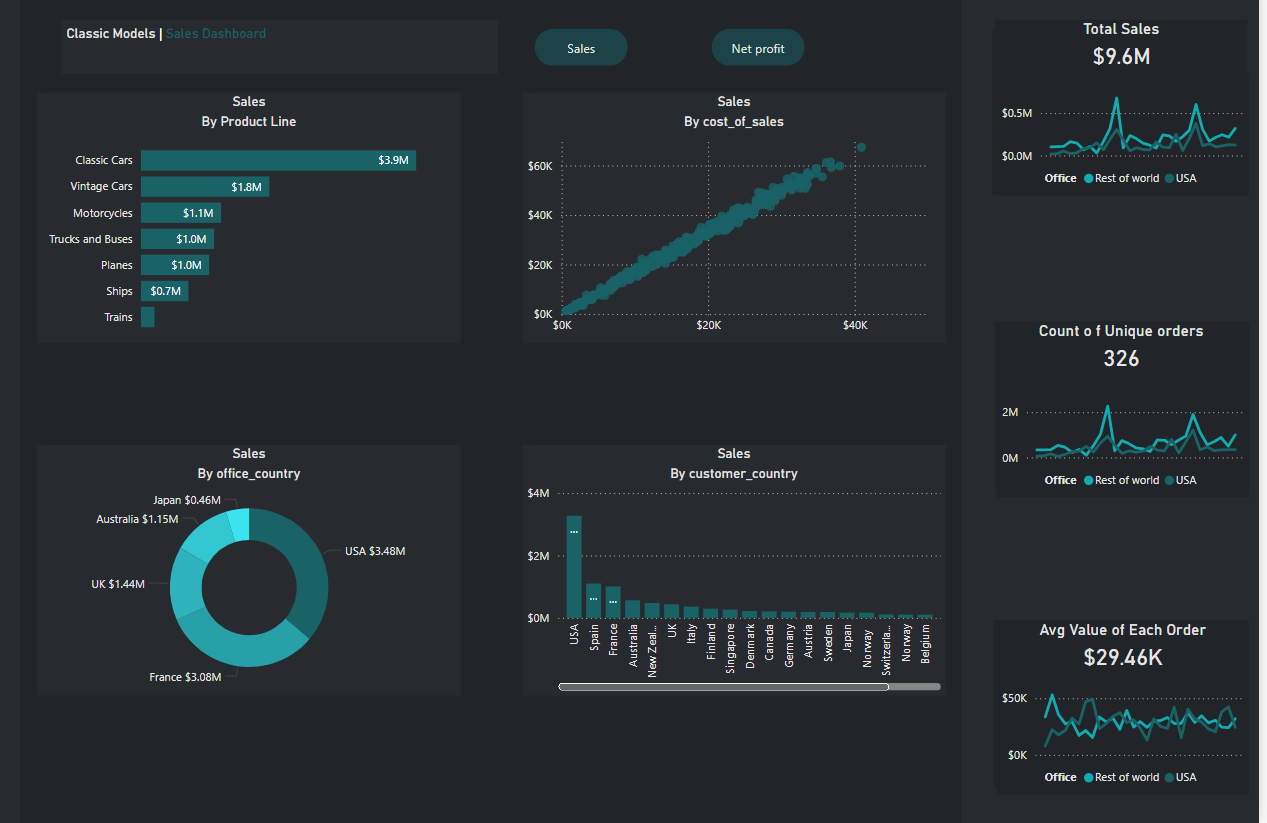

What the dashboard file says about the page in this screenshot:
{"tool":"powerbi","page":{"name":"Sales Overview","canvas":[1500,900],"ordinal":1},"visuals":[{"type":"shape","box":[0,0,170,900.1],"z":0},{"type":"shape","box":[1180.8,0,319.7,900.1],"z":1000},{"type":"shape","box":[1213.5,45.3,273.2,178.8],"z":2000},{"type":"shape","box":[1214.8,681,273.2,178.8],"z":3000},{"type":"shape","box":[1216,361.3,273.2,178.8],"z":4000},{"type":"card","title":"Total Sales","fields":{"Values":["Sum(Sales Data for Power BI.sales_value)"]},"box":[1216.1,36.4,271,58.1],"z":5000},{"type":"card","title":"Count o f Unique orders","fields":{"Values":["Count(Sales Data for Power BI.ordernumber)"]},"box":[1216.1,361,271,58.1],"z":6000},{"type":"card","title":"Avg Value of Each Order","fields":{"Values":["Sales Data for Power BI.Avg Sales value per order"]},"box":[1218.4,680.9,271,58.1],"z":7000},{"type":"lineChart","fields":{"Y":["Sum(Sales Data for Power BI.sales_value)"],"Category":["Sales Data for Power BI.orderdate.Variation.Date Hierarchy.Year","Sales Data for Power BI.orderdate.Variation.Date Hierarchy.Quarter","Sales Data for Power BI.orderdate.Variation.Date Hierarchy.Month"],"Series":["Sales Data for Power BI.Office Grouped"]},"box":[1218.4,94.5,271,129.8],"z":8000},{"type":"lineChart","fields":{"Category":["Sales Data for Power BI.orderdate.Variation.Date Hierarchy.Year","Sales Data for Power BI.orderdate.Variation.Date Hierarchy.Quarter","Sales Data for Power BI.orderdate.Variation.Date Hierarchy.Month"],"Series":["Sales Data for Power BI.Office Grouped"],"Y":["Sum(Sales Data for Power BI.ordernumber)"]},"box":[1218.4,419,271,129.8],"z":9000},{"type":"lineChart","fields":{"Category":["Sales Data for Power BI.orderdate.Variation.Date Hierarchy.Year","Sales Data for Power BI.orderdate.Variation.Date Hierarchy.Quarter","Sales Data for Power BI.orderdate.Variation.Date Hierarchy.Month"],"Series":["Sales Data for Power BI.Office Grouped"],"Y":["Sales Data for Power BI.Avg Sales value per order"]},"box":[1218.4,739,271,129.8],"z":10000},{"type":"clusteredBarChart","fields":{"Y":["Table.Selected Metric"],"Category":["Sales Data for Power BI.productLine"]},"box":[189,113.9,454.3,268.7],"z":11000},{"type":"actionButton","box":[721.9,45.5,100.2,39.9],"z":12000},{"type":"actionButton","box":[912.1,45.5,100.2,39.9],"z":13000},{"type":"scatterChart","fields":{"Y":["Table.Selected Metric"],"X":["Sum(Sales Data for Power BI.cost_of_sales)"],"Category":["Sales Data for Power BI.ordernumber"]},"box":[709.4,113.9,454.3,268.7],"z":15000},{"type":"donutChart","fields":{"Y":["Table.Selected Metric"],"Category":["Sales Data for Power BI.office_country"]},"box":[189,493,454.3,268.7],"z":16000},{"type":"columnChart","fields":{"Y":["Table.Selected Metric"],"Category":["Sales Data for Power BI.customer_country"]},"box":[709.4,493,454.3,268.7],"z":17000},{"type":"textbox","box":[214.1,36.4,468,58.1],"z":18000}]}

Visuals, with their boxes on the page's 1500x900 design canvas (x1, y1, x2, y2). These are canvas units, not pixel positions in the 1267x823 screenshot, which may show the page scaled, cropped or inside an application window:
shape: {"x1": 0, "y1": 0, "x2": 170, "y2": 900}
shape: {"x1": 1181, "y1": 0, "x2": 1500, "y2": 900}
shape: {"x1": 1214, "y1": 45, "x2": 1487, "y2": 224}
shape: {"x1": 1215, "y1": 681, "x2": 1488, "y2": 860}
shape: {"x1": 1216, "y1": 361, "x2": 1489, "y2": 540}
"Total Sales" card: {"x1": 1216, "y1": 36, "x2": 1487, "y2": 94}
"Count o f Unique orders" card: {"x1": 1216, "y1": 361, "x2": 1487, "y2": 419}
"Avg Value of Each Order" card: {"x1": 1218, "y1": 681, "x2": 1489, "y2": 739}
lineChart - Sum(Sales Data for Power BI.sales_value) x Sales Data for Power BI.orderdate.Variation.Date Hierarchy.Year: {"x1": 1218, "y1": 94, "x2": 1489, "y2": 224}
lineChart - Sales Data for Power BI.orderdate.Variation.Date Hierarchy.Year x Sales Data for Power BI.orderdate.Variation.Date Hierarchy.Quarter: {"x1": 1218, "y1": 419, "x2": 1489, "y2": 549}
lineChart - Sales Data for Power BI.orderdate.Variation.Date Hierarchy.Year x Sales Data for Power BI.orderdate.Variation.Date Hierarchy.Quarter: {"x1": 1218, "y1": 739, "x2": 1489, "y2": 869}
clusteredBarChart - Table.Selected Metric x Sales Data for Power BI.productLine: {"x1": 189, "y1": 114, "x2": 643, "y2": 383}
actionButton: {"x1": 722, "y1": 46, "x2": 822, "y2": 85}
actionButton: {"x1": 912, "y1": 46, "x2": 1012, "y2": 85}
scatterChart - Table.Selected Metric x Sum(Sales Data for Power BI.cost_of_sales): {"x1": 709, "y1": 114, "x2": 1164, "y2": 383}
donutChart - Table.Selected Metric x Sales Data for Power BI.office_country: {"x1": 189, "y1": 493, "x2": 643, "y2": 762}
columnChart - Table.Selected Metric x Sales Data for Power BI.customer_country: {"x1": 709, "y1": 493, "x2": 1164, "y2": 762}
textbox: {"x1": 214, "y1": 36, "x2": 682, "y2": 94}
